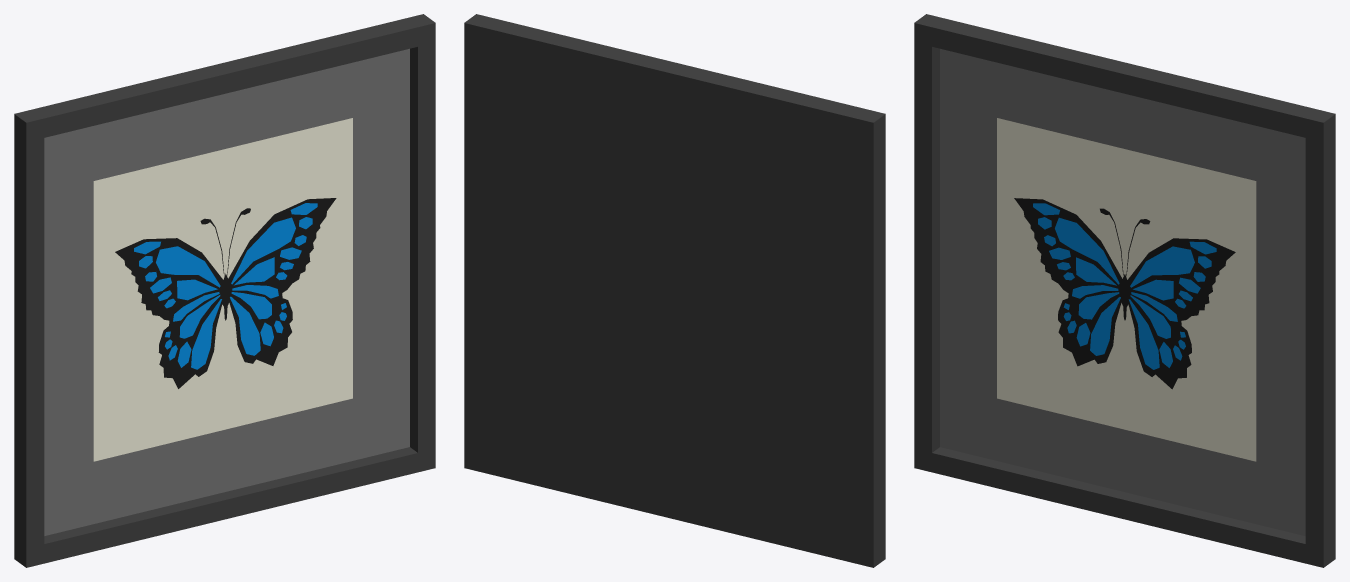
Rendered from picture_052.glb.
3 views of the same model, side by side, from view 1: azimuth 30°, elevation 25°; view 2: azimuth 150°, elevation 25°; view 3: azimuth 330°, elevation 25° (orthographic).
Parts seen in each view (by area): view 1: picture_052; view 2: picture_052; view 3: picture_052.
Part boxes in pixels (x1,y1,x2,y2): picture_052: (14, 14, 435, 567); picture_052: (464, 14, 885, 567); picture_052: (914, 14, 1335, 567).
Bounding box in the file's own units: 0.7634 × 0.7931 × 0.0395.
Materials: 1 (1 with a texture image).
